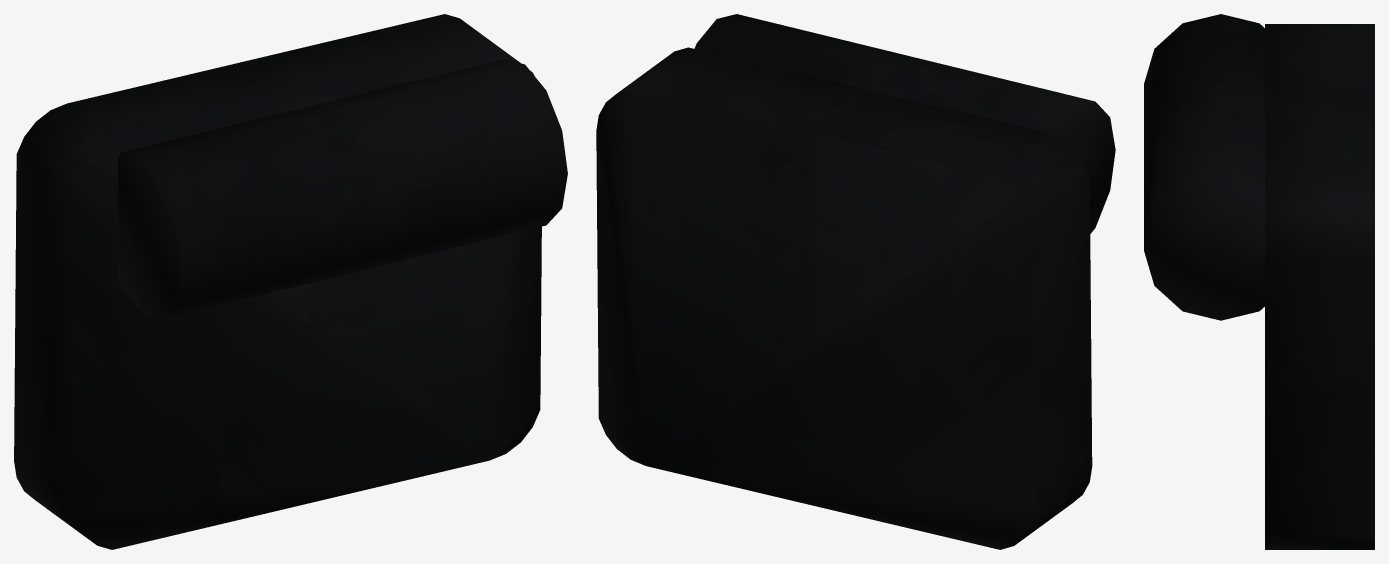
The model's file is DESK_PHONE_001.glb.
3 views of the same model, side by side, from view 1: azimuth 30°, elevation 25°; view 2: azimuth 150°, elevation 25°; view 3: azimuth 270°, elevation 25° (orthographic). The views are drawn at different scales.
Visible parts, largest first — view 1: base_000, receiver_001; view 2: base_000, receiver_001; view 3: base_000, receiver_001.
Boxes of the visible parts, box(x1,y1,x2,y2) form: base_000: box(14, 14, 541, 549); receiver_001: box(118, 59, 567, 318); base_000: box(596, 47, 1092, 549); receiver_001: box(694, 14, 1115, 233); base_000: box(1265, 24, 1374, 549); receiver_001: box(1144, 14, 1264, 320).
Size of the model in its own units: 0.22 by 0.185 by 0.105.
2 materials, 2 textured.
